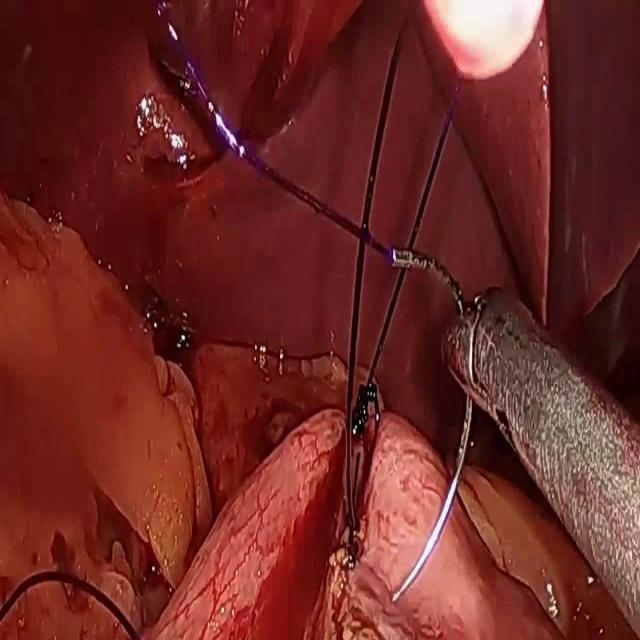surgical-tool: (436, 289, 640, 638)
